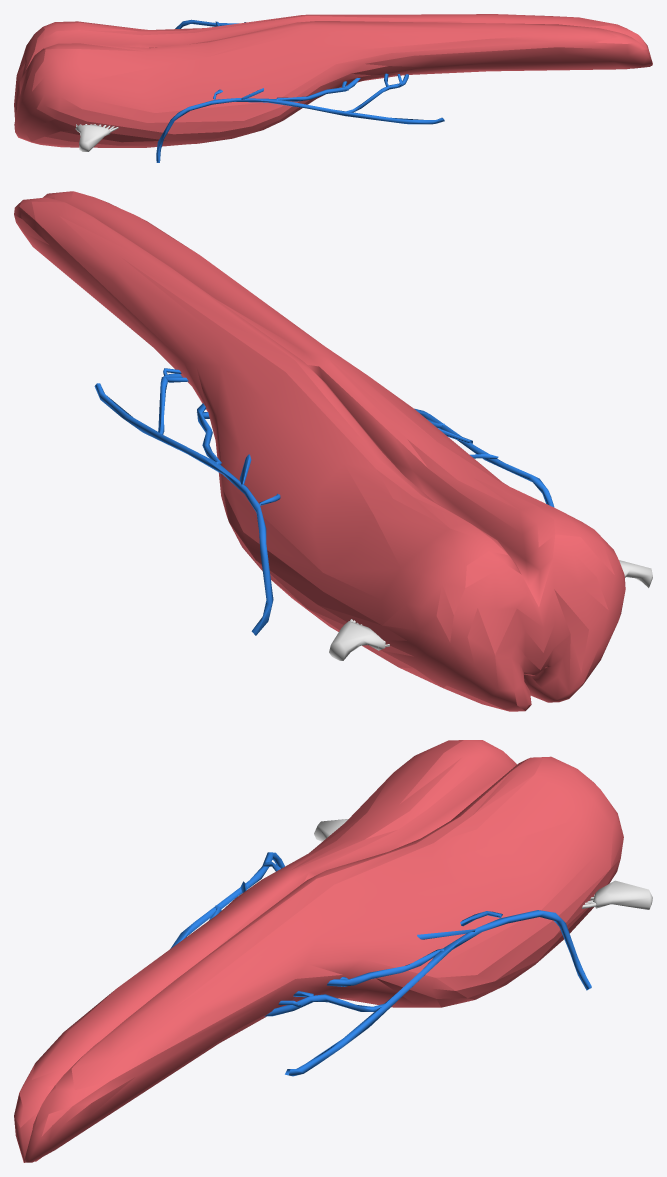
Rendered from longOPT.fbx.
3 views of the same model, one above another, from view 1: azimuth 30°, elevation 25°; view 2: azimuth 150°, elevation 25°; view 3: azimuth 270°, elevation 25° (orthographic). The views are drawn at different scales.
Visible parts, largest first — view 1: Mball.009; view 2: Mball.009; view 3: Mball.009.
Boxes of the visible parts, x1=… form: Mball.009: x1=14, y1=14, x2=652, y2=162; Mball.009: x1=14, y1=191, x2=652, y2=711; Mball.009: x1=14, y1=740, x2=652, y2=1162.
Bounding box in the file's own units: 1461 × 333 × 986.
